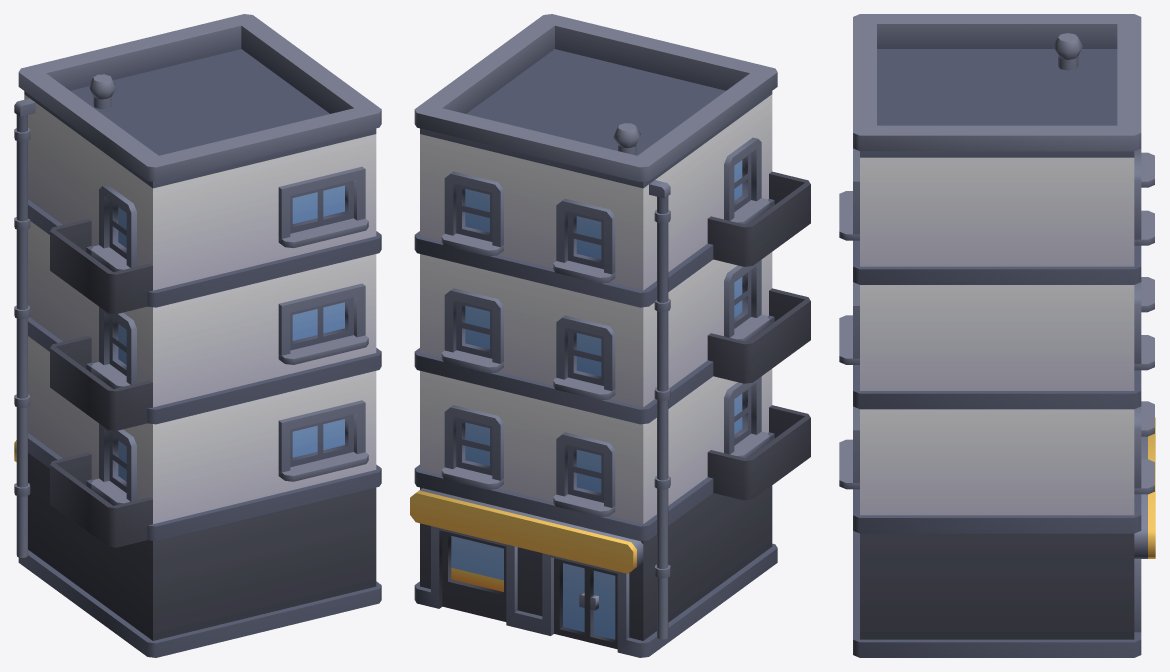
Rendered from building-g.glb.
The picture shows the model from 3 angles, left to right: view 1: azimuth 30°, elevation 25°; view 2: azimuth 150°, elevation 25°; view 3: azimuth 270°, elevation 25°; orthographic projection. The views are drawn at different scales.
Visible parts, largest first — view 1: building-g; view 2: building-g; view 3: building-g.
Part boxes in pixels (x1,y1,x2,y2): building-g: (14,14,381,657); building-g: (410,14,810,657); building-g: (839,14,1155,657).
Bounding box in the file's own units: 0.97 × 1.69 × 0.9221.
Materials: 1 (1 with a texture image).
